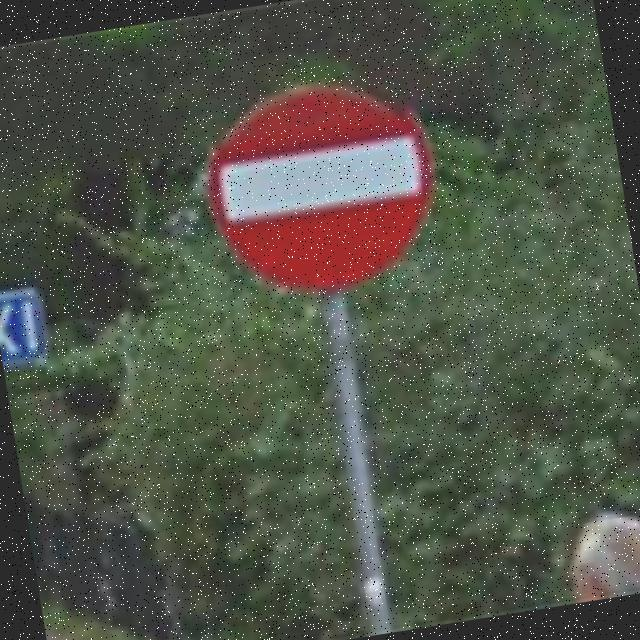Zakaz wjazdu: (193, 66, 447, 308)
